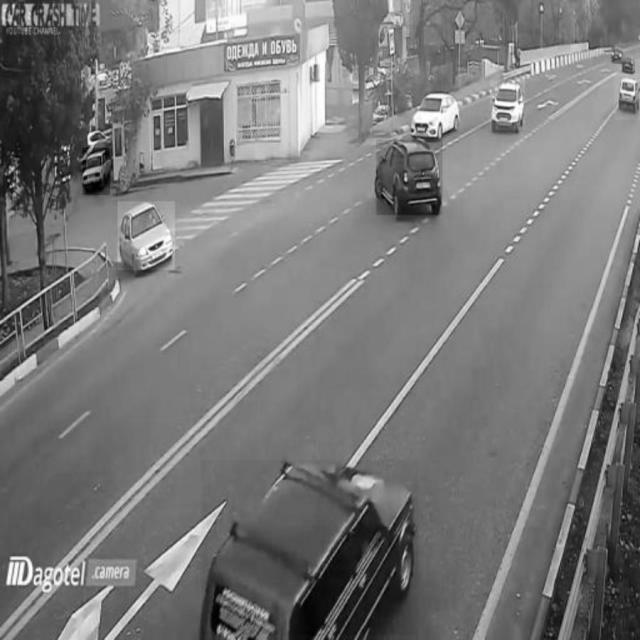vehicle: (202, 460, 419, 635), (377, 141, 443, 215), (118, 201, 175, 269), (411, 90, 462, 138), (490, 81, 526, 131), (83, 148, 110, 195), (614, 74, 640, 120)
